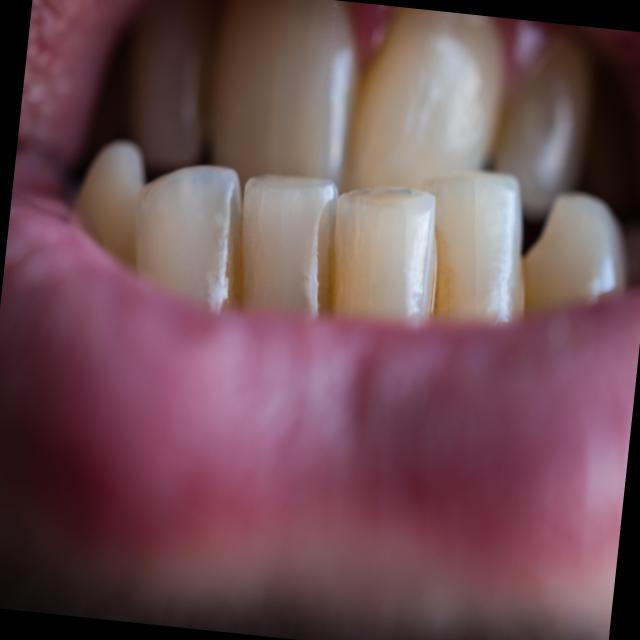Tooth: (209, 0, 363, 192), (347, 9, 505, 189), (135, 163, 242, 308), (422, 171, 524, 323), (330, 184, 435, 323), (242, 175, 337, 315), (75, 139, 145, 267)
